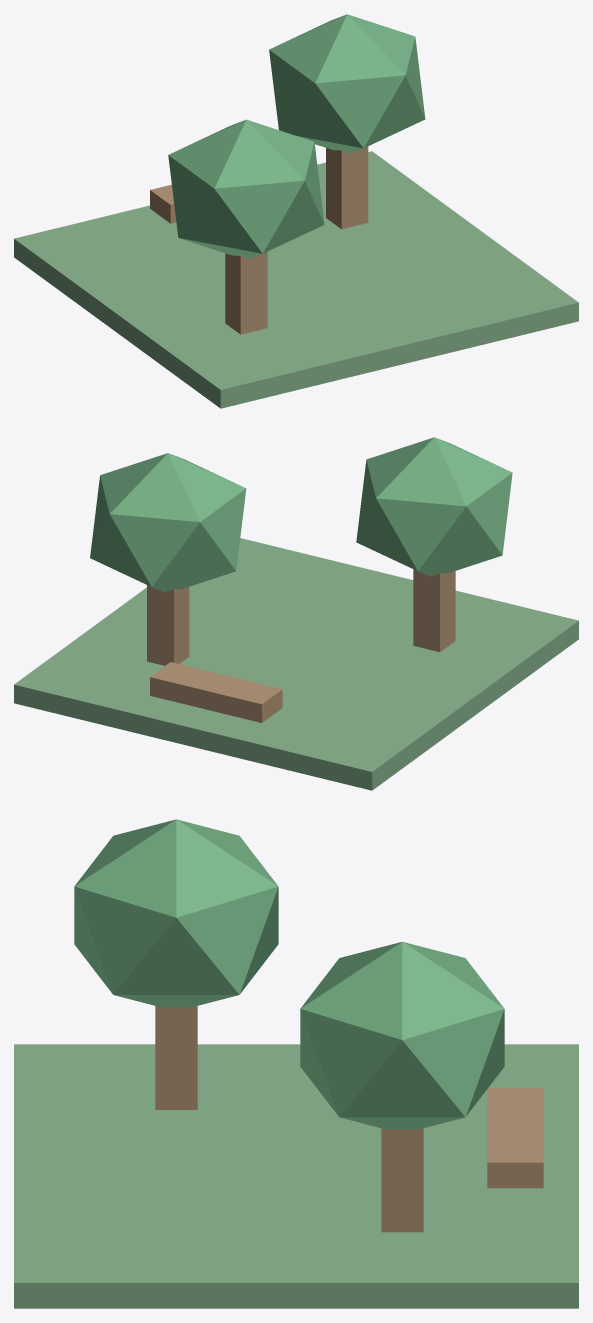
File: park.glb
3 renders of one model, top to bottom at view 1: azimuth 30°, elevation 25°; view 2: azimuth 150°, elevation 25°; view 3: azimuth 270°, elevation 25°, orthographic. The views are drawn at different scales.
Visible parts, largest first — view 1: MetroPark; view 2: MetroPark; view 3: MetroPark.
Boxes of the visible parts, x1,y1,x2,y2 form: MetroPark: (14,14,578,408); MetroPark: (14,437,578,790); MetroPark: (14,819,578,1308).
Bounding box in the file's own units: 1.6 × 0.96 × 1.6.
